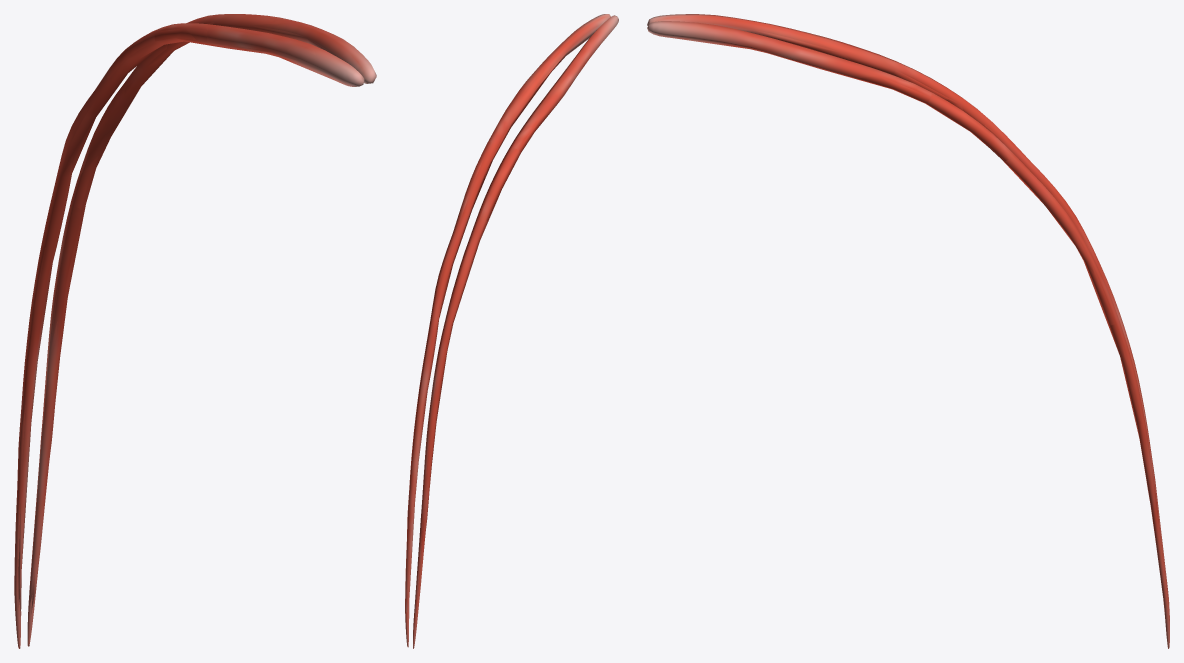
Rendered from sacrococcygeus dorsalis longus.fbx.
The picture shows the model from 3 angles, left to right: view 1: azimuth 30°, elevation 25°; view 2: azimuth 150°, elevation 25°; view 3: azimuth 270°, elevation 25°; orthographic projection. The views are drawn at different scales.
Parts seen in each view (by area): view 1: sacrococcygeus dorsalis longus low, sacrococcygeus dorsalis longus; view 2: sacrococcygeus dorsalis longus, sacrococcygeus dorsalis longus low; view 3: sacrococcygeus dorsalis longus, sacrococcygeus dorsalis longus low.
Part boxes in pixels (bbox=[...]): sacrococcygeus dorsalis longus low: bbox=[15, 15, 374, 616]; sacrococcygeus dorsalis longus: bbox=[14, 14, 376, 648]; sacrococcygeus dorsalis longus: bbox=[405, 14, 618, 648]; sacrococcygeus dorsalis longus low: bbox=[405, 25, 604, 618]; sacrococcygeus dorsalis longus: bbox=[647, 14, 1169, 648]; sacrococcygeus dorsalis longus low: bbox=[660, 14, 1168, 611].
Bounding box in the file's own units: 4.11 × 49.31 × 37.21.
1 material, 1 textured.
